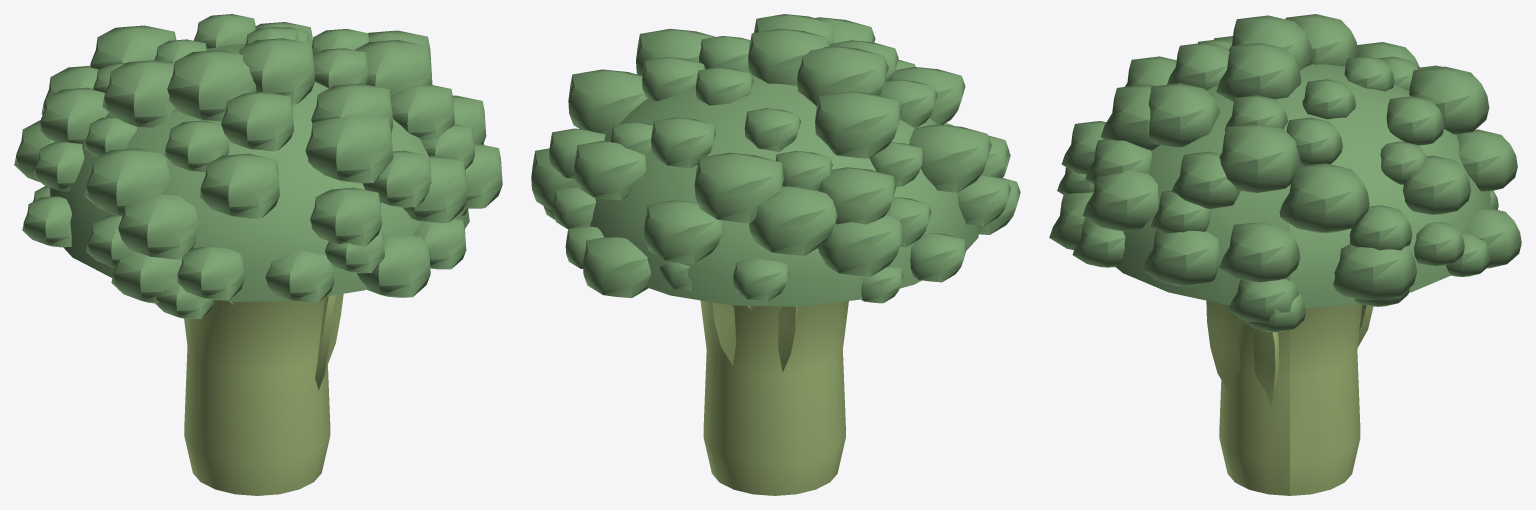
Rendered from fresh-produce-and-groceries-broccoli-f70743a7__24362.glb.
3 views of the same model, side by side, from view 1: azimuth 30°, elevation 25°; view 2: azimuth 150°, elevation 25°; view 3: azimuth 270°, elevation 25° (orthographic). The views are drawn at different scales.
Parts seen in each view (by area): view 1: broccoli; view 2: broccoli; view 3: broccoli.
Boxes of the visible parts, left/top/right/bottom form: broccoli: left=14, top=14, right=502, bottom=495; broccoli: left=531, top=14, right=1020, bottom=495; broccoli: left=1049, top=14, right=1521, bottom=495.
Size of the model in its own units: 0.144 by 0.1402 by 0.142.
